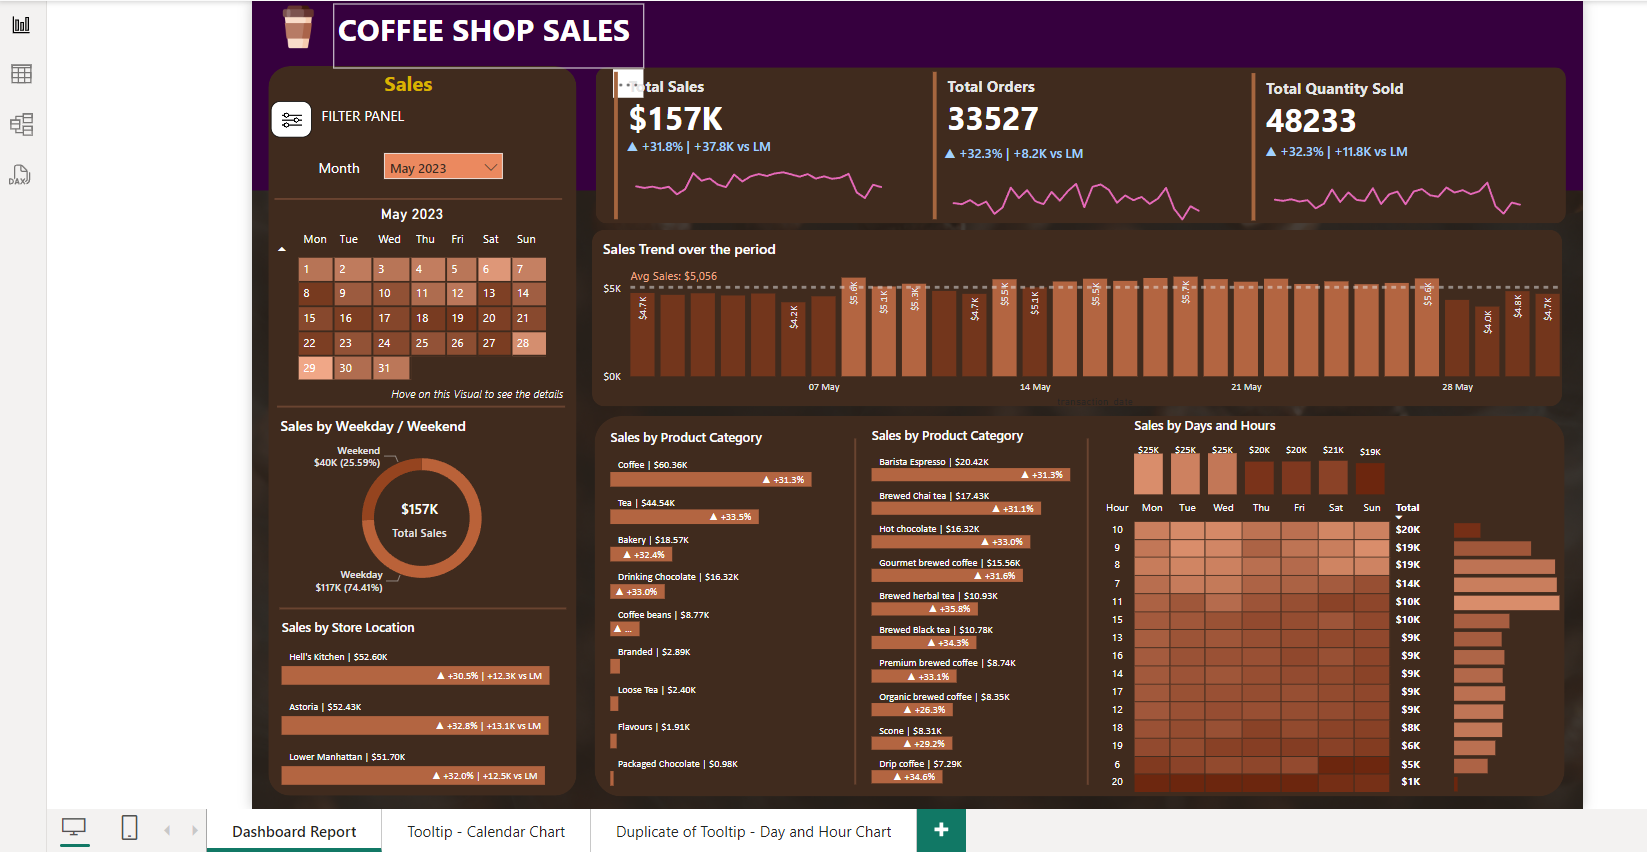

This screenshot's page, from the dashboard's own definition file:
{"tool":"powerbi","page":{"name":"Dashboard Report","canvas":[1400,850],"ordinal":0},"visuals":[{"type":"shape","box":[0,0,1400.1,199.4],"z":0},{"type":"shape","box":[360,435.7,1020,400],"z":1000},{"type":"shape","box":[17.4,67.7,324.3,767.1],"z":2000},{"type":"shape","box":[361.1,69.1,1020,164.3],"z":3000},{"type":"textbox","box":[85.7,2.9,327.1,68.6],"z":4000},{"type":"cardVisual","fields":{"Data":["Transactions.Total Sales"]},"box":[375.7,70,300.5,165.2],"z":4000,"group":"g1"},{"type":"cardVisual","fields":{"Data":["Transactions.Total Orders"]},"box":[711.1,70,300.5,165.2],"z":4000,"group":"g2"},{"type":"cardVisual","fields":{"Data":["Transactions.Total Quantity"]},"box":[1046.6,71.5,300.5,165.2],"z":4000,"group":"g3"},{"type":"slicer","fields":{"Values":["Date Table.Month Year"]},"box":[134.3,155.7,134.3,48.6],"z":5000},{"type":"lineChart","fields":{"Y":["Transactions.Total Sales"],"Category":["Date Table.Date.Variation.Date Hierarchy.Year","Date Table.Date.Variation.Date Hierarchy.Quarter","Date Table.Date.Variation.Date Hierarchy.Month","Date Table.Date.Variation.Date Hierarchy.Day"]},"box":[388.5,144.1,287.7,85.5],"z":5001,"group":"g1"},{"type":"lineChart","fields":{"Y":["Transactions.Total Quantity Sold"],"Category":["Date Table.Date.Variation.Date Hierarchy.Year","Date Table.Date.Variation.Date Hierarchy.Quarter","Date Table.Date.Variation.Date Hierarchy.Month","Date Table.Date.Variation.Date Hierarchy.Day"]},"box":[1060.7,149,287.7,85.5],"z":5001,"group":"g3"},{"type":"lineChart","fields":{"Y":["Transactions.Total Orders"],"Category":["Date Table.Date.Variation.Date Hierarchy.Year","Date Table.Date.Variation.Date Hierarchy.Quarter","Date Table.Date.Variation.Date Hierarchy.Month","Date Table.Date.Variation.Date Hierarchy.Day"]},"box":[722.8,151.7,287.7,85.5],"z":5001,"group":"g2"},{"type":"group","id":"g1","title":"Group 1","box":[375.7,70,300.5,165.2],"z":6000},{"type":"group","id":"g2","title":"Group 1","box":[711.1,70,300.5,166.6],"z":7000},{"type":"group","id":"g3","title":"Group 1","box":[1046.6,71.5,301.9,165.2],"z":8000},{"type":"pivotTable","fields":{"Rows":["Date Table.Week Number"],"Columns":["Date Table.Day Name"],"Values":["Min(Date Table.Day Number)"]},"box":[17.5,233.8,313.8,191.2],"z":9000},{"type":"card","fields":{"Values":["Min(Date Table.Month Year)"]},"box":[100,202.5,137.5,45],"z":10000},{"type":"card","fields":{"Values":["Transactions.Footnote"]},"box":[132.5,400,208.8,32.5],"z":11000},{"type":"shape","box":[25.7,410,302.9,32.9],"z":12000},{"type":"shape","box":[23.8,191.2,302.5,32.5],"z":13000},{"type":"donutChart","title":"Sales by Weekday / Weekend","fields":{"Y":["Transactions.Total Sales"],"Category":["Date Table.Weekday / Weekend"]},"box":[25,436.2,307.5,195],"z":14000},{"type":"card","fields":{"Values":["Transactions.Total Sales"]},"box":[128.8,518.8,95,51.2],"z":15000},{"type":"shape","box":[28.6,622.9,301.4,31.4],"z":16000},{"type":"shape","box":[357.1,240,1020,185.7],"z":17000},{"type":"clusteredBarChart","title":"Sales by Store Location","fields":{"Category":["Transactions.store_location"],"Y":["Transactions.Placeholder","Transactions.Total Sales"]},"box":[25.7,648.6,317.1,182.9],"z":18000},{"type":"columnChart","title":"Sales Trend over the period","fields":{"Category":["Transactions.transaction_date"],"Y":["Transactions.Total Sales"]},"box":[363.4,250.3,1020,182.9],"z":19000},{"type":"shape","box":[615.7,460.6,35.7,363.7],"z":20000},{"type":"clusteredBarChart","title":"Sales by Product Category","fields":{"Y":["Transactions.Placeholder","Transactions.Total Sales"],"Category":["Transactions.product_category"]},"box":[372,450,250,381.4],"z":21000},{"type":"clusteredBarChart","title":"Sales by Product Category","fields":{"Y":["Transactions.Placeholder","Transactions.Total Sales"],"Category":["Transactions.product_type"]},"box":[646.6,447.4,250,381.4],"z":22000},{"type":"shape","box":[861.4,460,35.7,364.3],"z":23000},{"type":"pivotTable","fields":{"Rows":["Transactions.Hour"],"Columns":["Date Table.Day Name"],"Values":["Transactions.Total Sales"]},"box":[887.1,520,370,318.6],"z":24000},{"type":"barChart","fields":{"Category":["Transactions.Hour"],"Y":["Transactions.Total Sales"]},"box":[1258.6,535.7,122.9,300],"z":25000},{"type":"columnChart","title":"Sales by Days and Hours","fields":{"Category":["Date Table.Day Name"],"Y":["Transactions.Total Sales"]},"box":[922.9,435.7,274.3,88.6],"z":26000},{"type":"textbox","box":[48.6,160,85.7,44.3],"z":27000},{"type":"textbox","box":[134.3,67.1,90,52.9],"z":28000},{"type":"textbox","box":[48.6,105.7,135.7,41.4],"z":29000},{"type":"image","box":[20,105.7,42.9,38.6],"z":30000},{"type":"image","box":[11.4,0,74.3,54.3],"z":31000}]}

Visuals, with their boxes on the page's 1400x850 design canvas (x1, y1, x2, y2). These are canvas units, not pixel positions in the 1647x852 screenshot, which may show the page scaled, cropped or inside an application window:
shape: Rect(0, 0, 1400, 199)
shape: Rect(360, 436, 1380, 836)
shape: Rect(17, 68, 342, 835)
shape: Rect(361, 69, 1381, 233)
textbox: Rect(86, 3, 413, 72)
cardVisual - Transactions.Total Sales: Rect(376, 70, 676, 235)
cardVisual - Transactions.Total Orders: Rect(711, 70, 1012, 235)
cardVisual - Transactions.Total Quantity: Rect(1047, 72, 1347, 237)
slicer - Date Table.Month Year: Rect(134, 156, 269, 204)
lineChart - Transactions.Total Sales x Date Table.Date.Variation.Date Hierarchy.Year: Rect(388, 144, 676, 230)
lineChart - Transactions.Total Quantity Sold x Date Table.Date.Variation.Date Hierarchy.Year: Rect(1061, 149, 1348, 234)
lineChart - Transactions.Total Orders x Date Table.Date.Variation.Date Hierarchy.Year: Rect(723, 152, 1010, 237)
"Group 1" group: Rect(376, 70, 676, 235)
"Group 1" group: Rect(711, 70, 1012, 237)
"Group 1" group: Rect(1047, 72, 1348, 237)
pivotTable - Date Table.Week Number x Date Table.Day Name: Rect(18, 234, 331, 425)
card - Min(Date Table.Month Year): Rect(100, 202, 238, 248)
card - Transactions.Footnote: Rect(132, 400, 341, 432)
shape: Rect(26, 410, 329, 443)
shape: Rect(24, 191, 326, 224)
"Sales by Weekday / Weekend" donutChart: Rect(25, 436, 332, 631)
card - Transactions.Total Sales: Rect(129, 519, 224, 570)
shape: Rect(29, 623, 330, 654)
shape: Rect(357, 240, 1377, 426)
"Sales by Store Location" clusteredBarChart: Rect(26, 649, 343, 832)
"Sales Trend over the period" columnChart: Rect(363, 250, 1383, 433)
shape: Rect(616, 461, 651, 824)
"Sales by Product Category" clusteredBarChart: Rect(372, 450, 622, 831)
"Sales by Product Category" clusteredBarChart: Rect(647, 447, 897, 829)
shape: Rect(861, 460, 897, 824)
pivotTable - Transactions.Hour x Date Table.Day Name: Rect(887, 520, 1257, 839)
barChart - Transactions.Hour x Transactions.Total Sales: Rect(1259, 536, 1382, 836)
"Sales by Days and Hours" columnChart: Rect(923, 436, 1197, 524)
textbox: Rect(49, 160, 134, 204)
textbox: Rect(134, 67, 224, 120)
textbox: Rect(49, 106, 184, 147)
image: Rect(20, 106, 63, 144)
image: Rect(11, 0, 86, 54)
